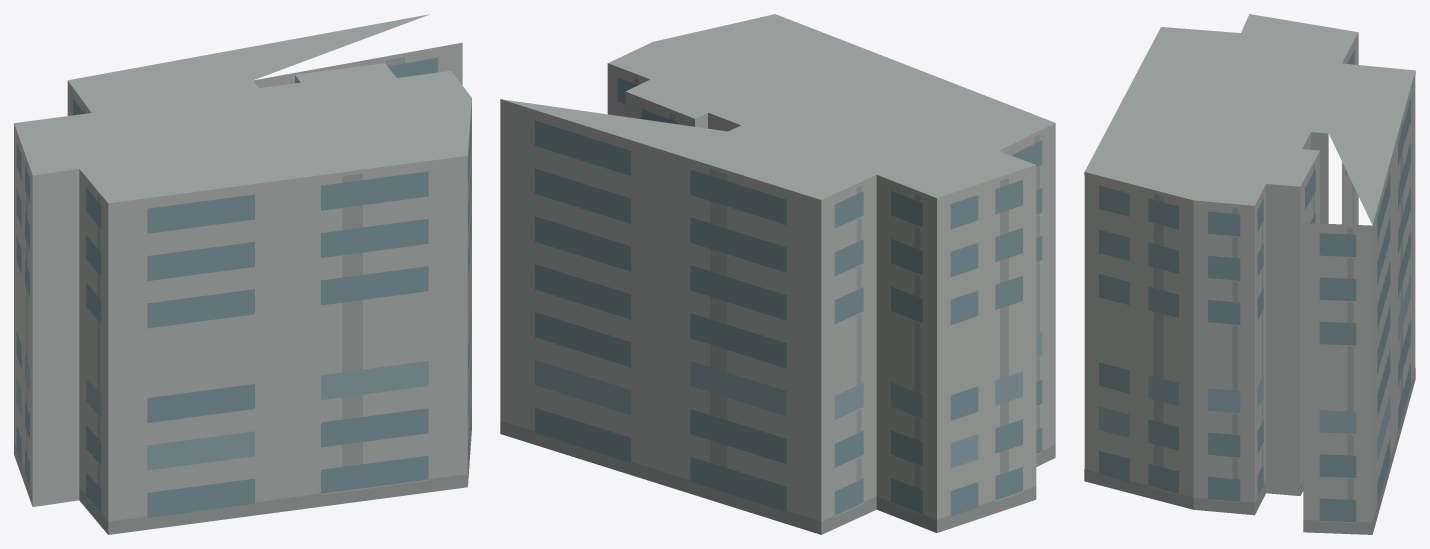
The model's file is survey-upis-32988425.glb.
3 views of the same model, side by side, from view 1: azimuth 30°, elevation 25°; view 2: azimuth 150°, elevation 25°; view 3: azimuth 270°, elevation 25° (orthographic). The views are drawn at different scales.
Parts seen in each view (by area): view 1: survey-upis-32988425.tmp; view 2: survey-upis-32988425.tmp; view 3: survey-upis-32988425.tmp.
Part boxes in pixels (x1,y1,x2,y2): survey-upis-32988425.tmp: [14, 14, 471, 534]; survey-upis-32988425.tmp: [500, 14, 1055, 534]; survey-upis-32988425.tmp: [1084, 14, 1415, 534].
Size of the model in its own units: 29.77 by 20.3 by 19.69.
